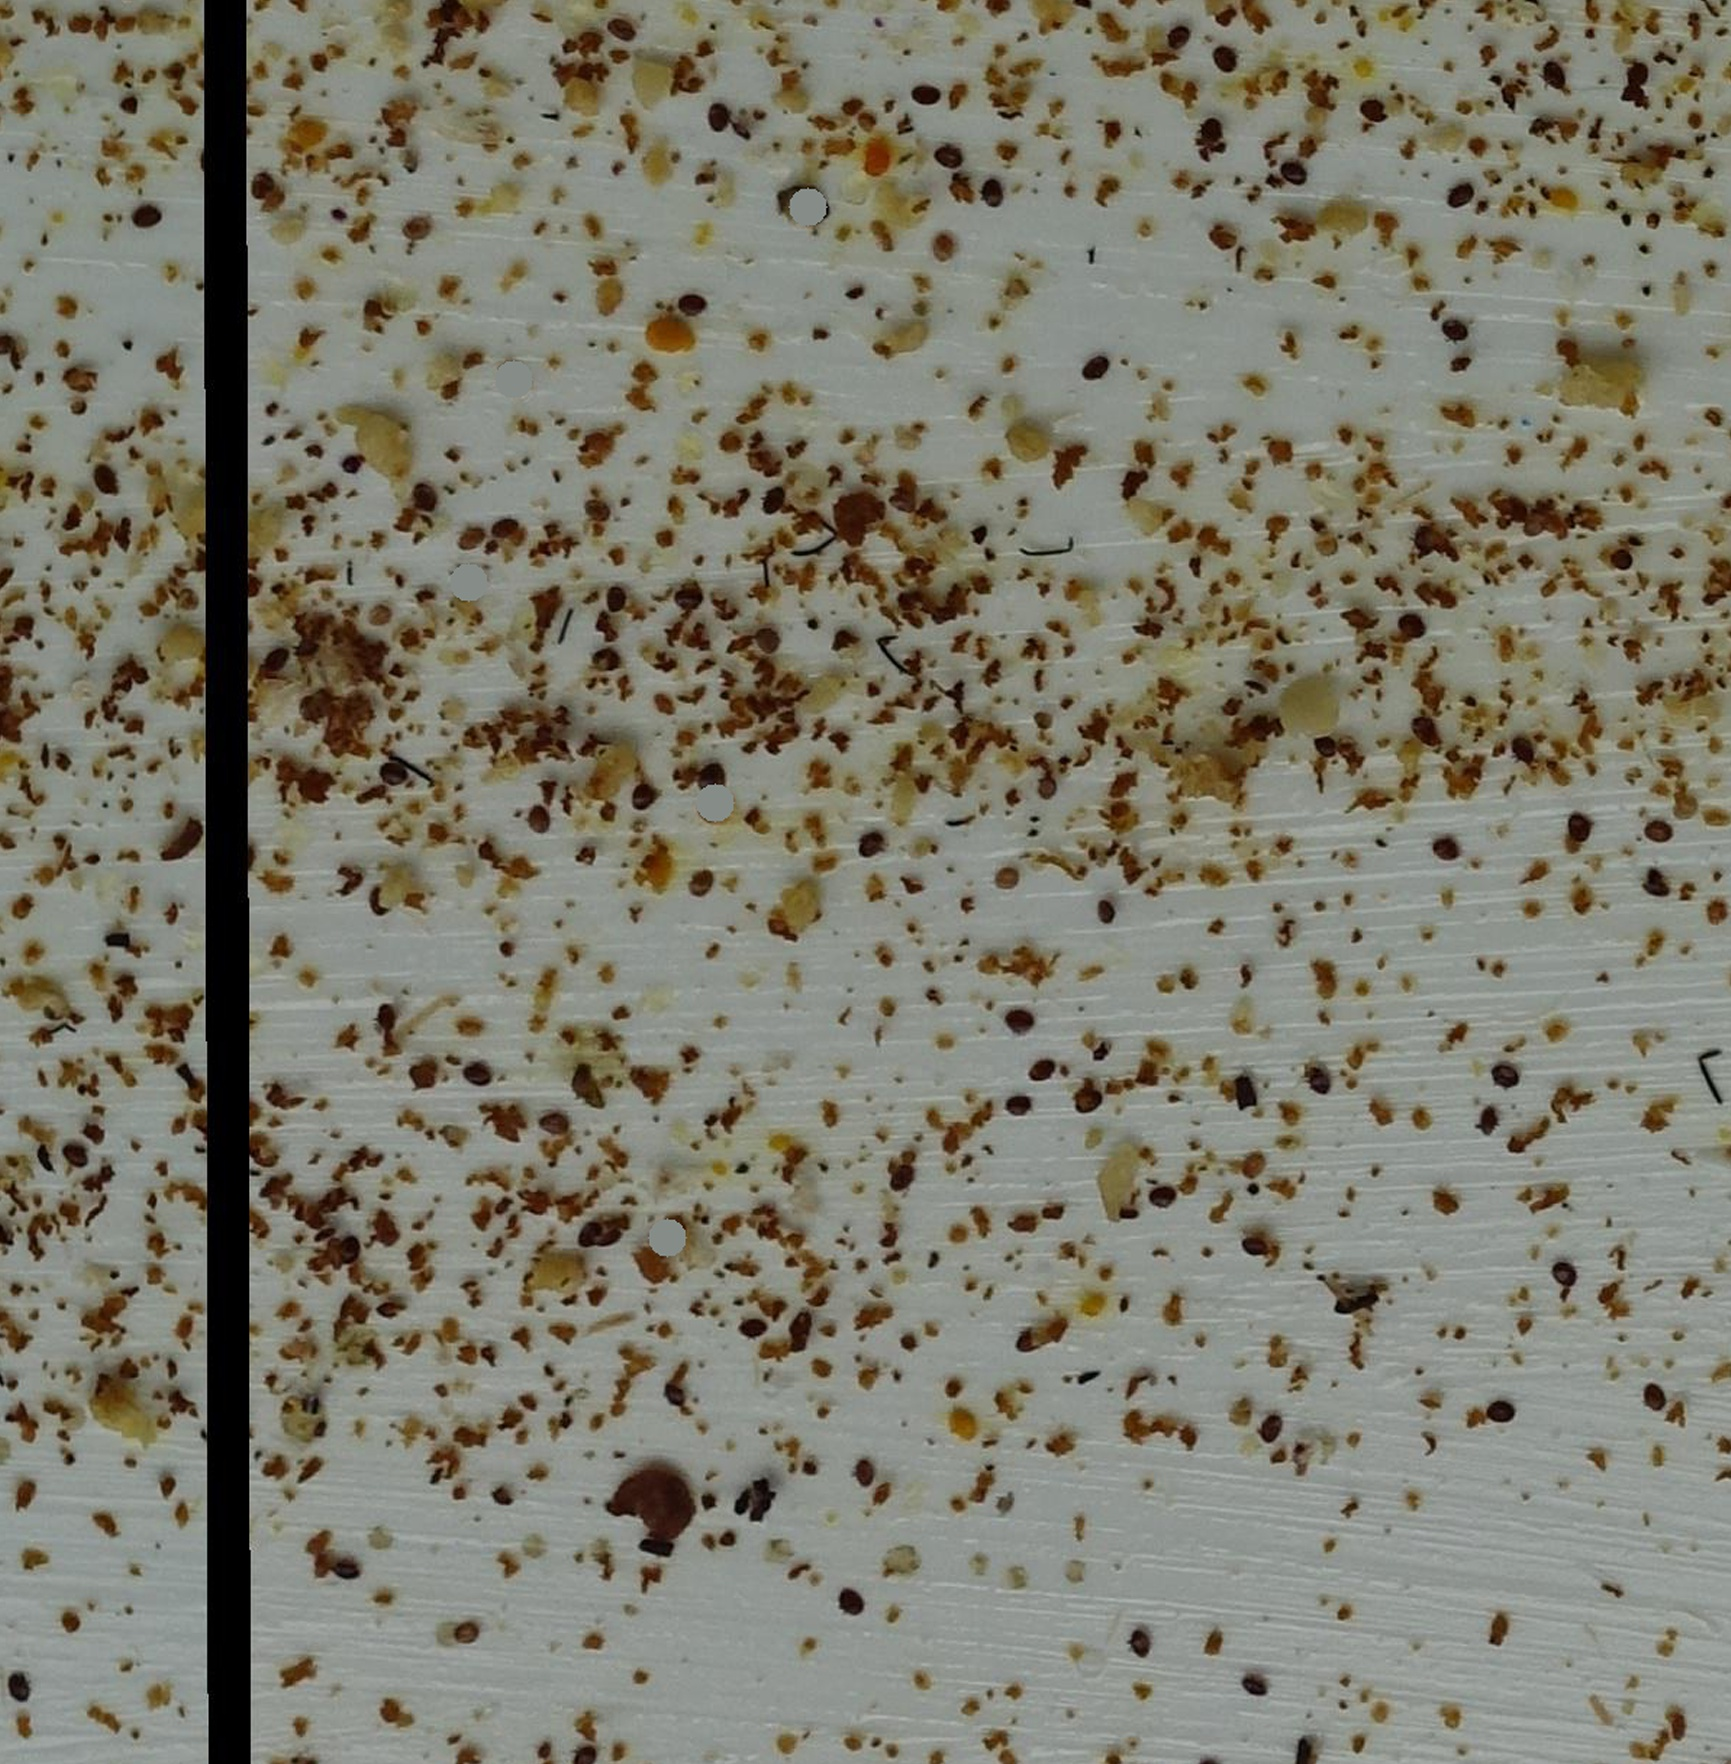Varroa: (239, 163, 284, 208), (667, 575, 712, 620), (1466, 1098, 1511, 1143), (652, 1373, 696, 1417), (1615, 54, 1660, 97), (449, 514, 493, 556), (285, 688, 330, 731), (583, 637, 628, 680), (1235, 667, 1278, 712), (923, 227, 965, 269), (358, 880, 401, 922), (587, 1217, 629, 1260), (262, 643, 296, 680), (1148, 1181, 1183, 1216), (1634, 1387, 1668, 1422), (580, 1216, 613, 1250), (331, 1552, 365, 1585), (1002, 1087, 1035, 1121), (1408, 525, 1441, 558), (694, 758, 726, 792), (935, 143, 967, 178), (1484, 1393, 1515, 1426), (1252, 1417, 1284, 1450), (536, 1108, 567, 1141), (1240, 1231, 1271, 1265), (1430, 834, 1462, 867), (1005, 1006, 1037, 1040), (376, 761, 407, 792), (330, 1235, 361, 1266), (758, 485, 789, 517), (92, 466, 124, 498), (840, 1588, 870, 1621), (1195, 119, 1225, 151), (6, 1675, 36, 1707), (1084, 358, 1114, 390), (1492, 1067, 1522, 1098), (1549, 1262, 1579, 1293), (1309, 727, 1339, 759), (1214, 48, 1244, 79), (1162, 25, 1192, 55), (737, 1319, 767, 1349), (491, 515, 522, 545), (688, 869, 718, 899), (1073, 1090, 1103, 1121), (1645, 816, 1676, 846), (609, 17, 639, 48), (1030, 1057, 1060, 1087), (1238, 1667, 1267, 1699), (1238, 1152, 1267, 1184), (850, 1461, 878, 1491), (1444, 185, 1473, 216), (751, 626, 780, 656), (464, 1060, 493, 1090), (518, 799, 548, 827), (675, 290, 704, 320), (911, 78, 940, 108), (1358, 101, 1389, 130), (374, 1003, 403, 1033), (1013, 1327, 1041, 1357), (628, 781, 656, 811), (886, 1165, 915, 1193), (1301, 1067, 1330, 1095), (60, 1143, 89, 1171), (582, 502, 610, 531), (1279, 163, 1308, 192), (1442, 315, 1469, 346), (705, 105, 732, 135), (980, 182, 1007, 211), (453, 1618, 480, 1647), (854, 832, 881, 861), (1411, 720, 1439, 746), (602, 583, 629, 612), (1094, 894, 1121, 922), (404, 219, 433, 246), (1645, 869, 1672, 897), (1400, 617, 1427, 643), (1544, 63, 1571, 90), (1511, 735, 1538, 762), (135, 200, 160, 228), (1607, 540, 1633, 567), (1569, 813, 1595, 840), (1129, 1629, 1154, 1656), (1034, 772, 1059, 797), (407, 487, 431, 514)
